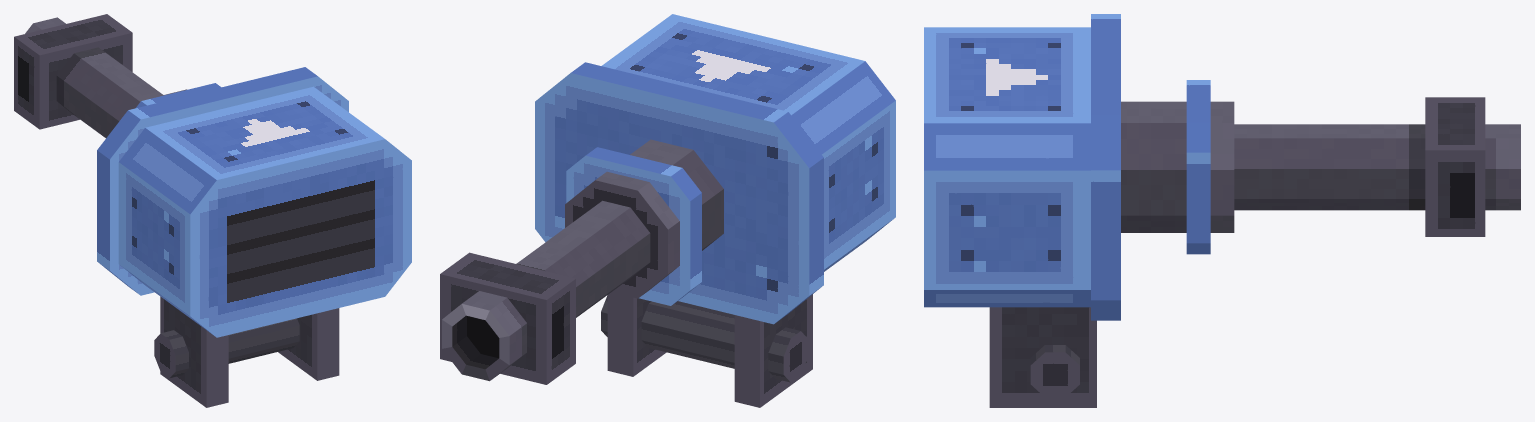
Rendered from pound_cannon.glb.
3 renders of one model, left to right at view 1: azimuth 30°, elevation 25°; view 2: azimuth 150°, elevation 25°; view 3: azimuth 270°, elevation 25°, orthographic. The views are drawn at different scales.
Visible parts, largest first — view 1: pound_cannon_head; view 2: pound_cannon_head; view 3: pound_cannon_head.
Part boxes in pixels (<box>): pound_cannon_head: <box>14,14,411,407</box>; pound_cannon_head: <box>440,14,895,407</box>; pound_cannon_head: <box>924,14,1520,407</box>.
Bounding box in the file's own units: 0.54 × 0.565 × 1.
1 material, 1 textured.
